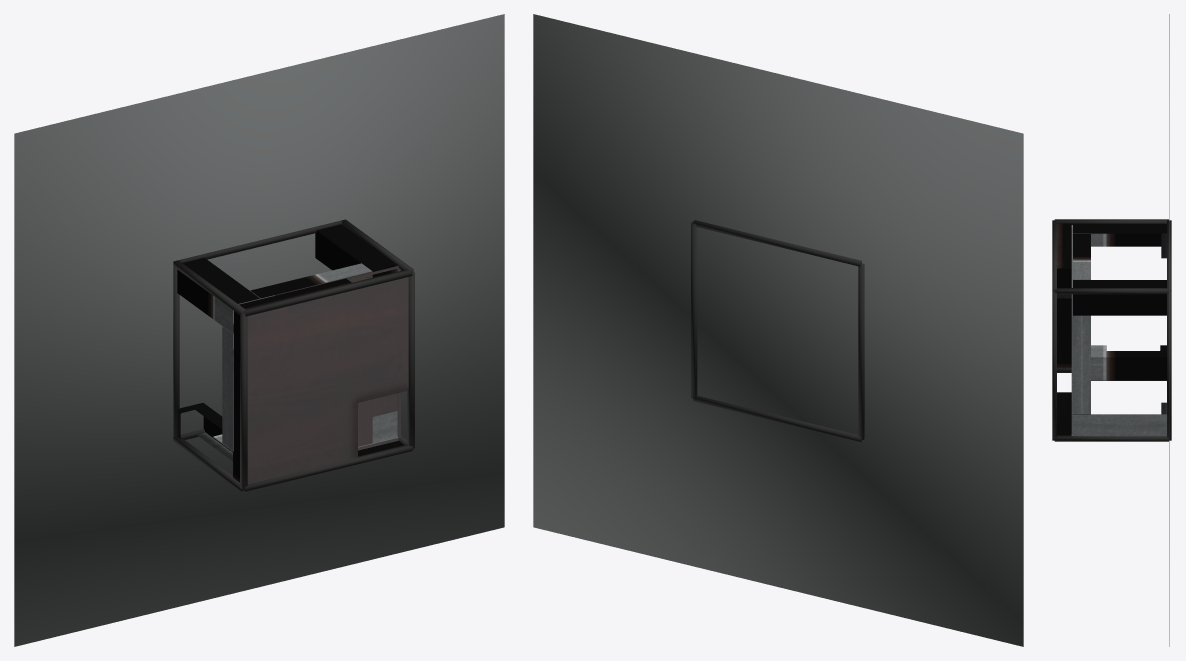
The picture shows the model from 3 angles, left to right: view 1: azimuth 30°, elevation 25°; view 2: azimuth 150°, elevation 25°; view 3: azimuth 270°, elevation 25°; orthographic projection. The views are drawn at different scales.
Bounding box in the file's own units: 2 × 2 × 0.5008.
